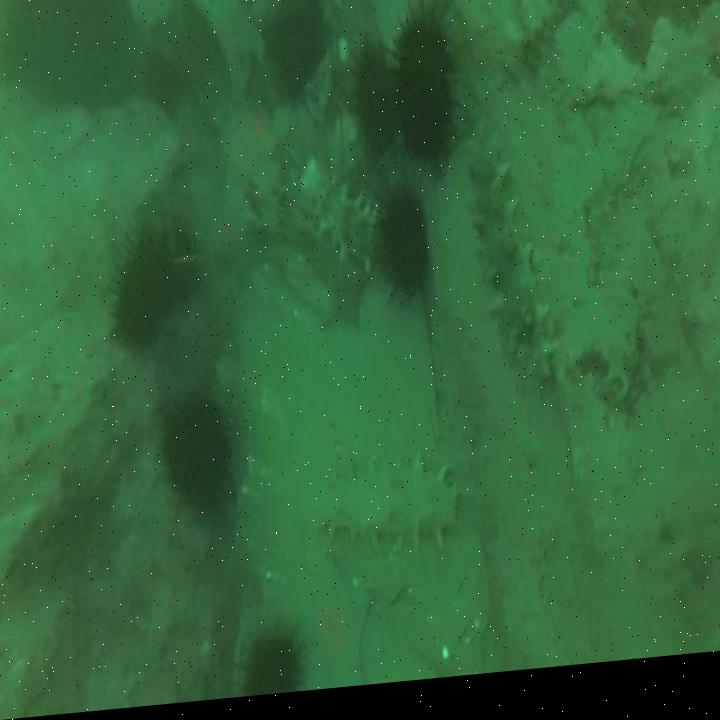echinus: (394, 21, 455, 167), (163, 409, 227, 519), (110, 247, 170, 351), (353, 48, 399, 156), (382, 199, 429, 304), (268, 18, 319, 95), (245, 641, 295, 701)
holothurian: (464, 137, 556, 398), (315, 461, 457, 561), (312, 179, 379, 282)
starfish: (298, 570, 368, 696)
